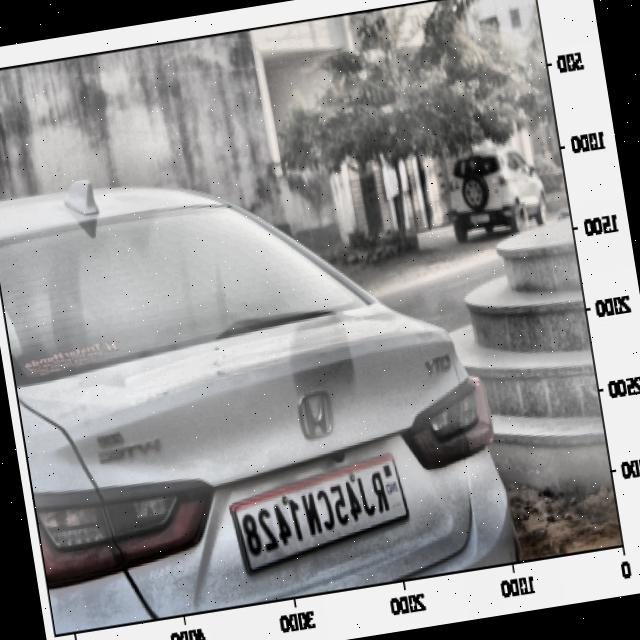license_plate: (235, 464, 401, 565)
